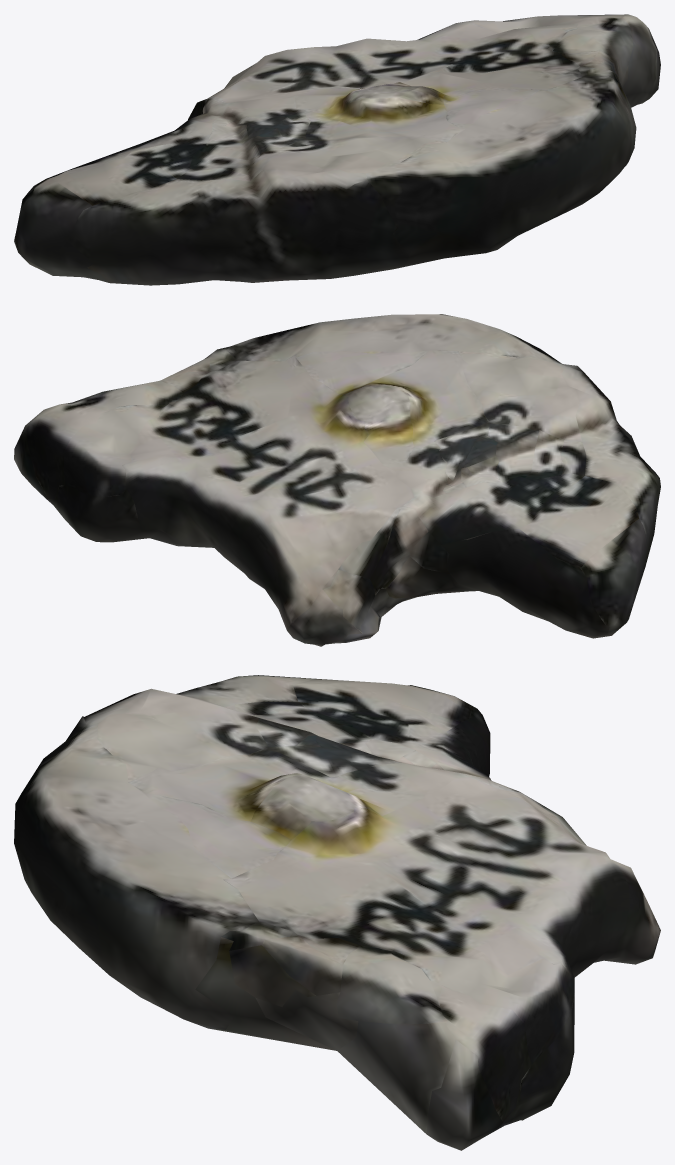
Rendered from hall.glb.
3 views of the same model, one above another, from view 1: azimuth 30°, elevation 25°; view 2: azimuth 150°, elevation 25°; view 3: azimuth 270°, elevation 25° (orthographic). The views are drawn at different scales.
Size of the model in its own units: 0.5477 by 0.1333 by 0.3693.
1 material, 1 textured.
